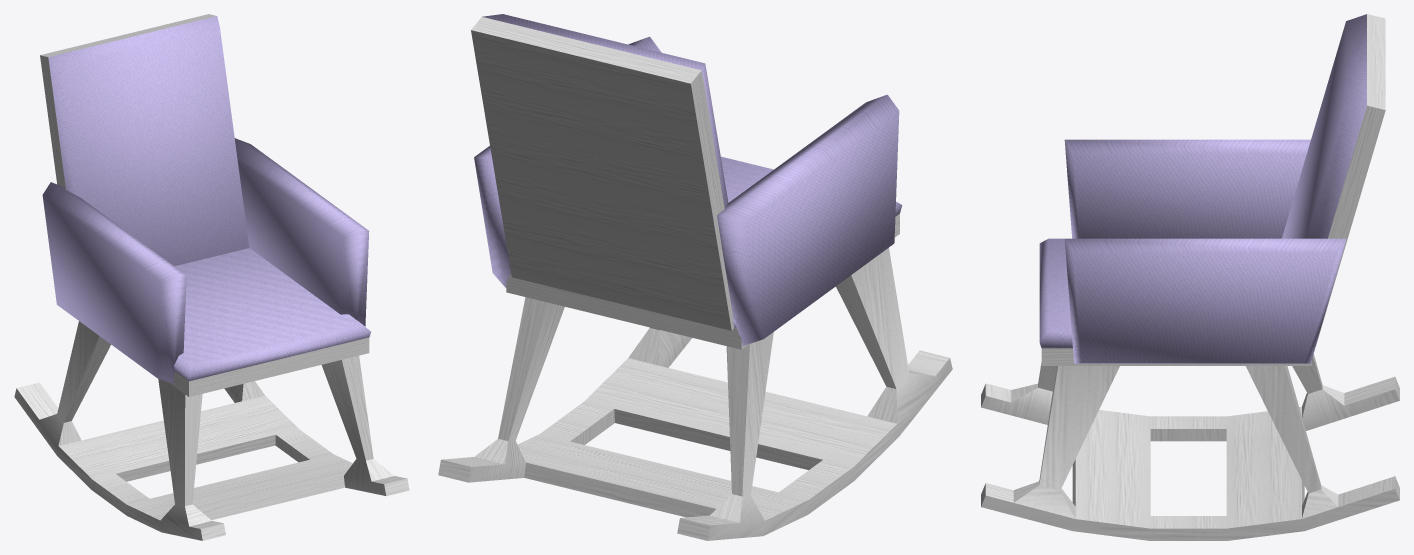
Rendered from Rocker_E.FBX.
The picture shows the model from 3 angles, left to right: view 1: azimuth 30°, elevation 25°; view 2: azimuth 150°, elevation 25°; view 3: azimuth 270°, elevation 25°; orthographic projection. The views are drawn at different scales.
Parts seen in each view (by area): view 1: Rocker; view 2: Rocker; view 3: Rocker.
Boxes of the visible parts, box(x1,y1,x2,y2) form: Rocker: box(14, 14, 409, 540); Rocker: box(438, 14, 952, 540); Rocker: box(981, 14, 1399, 540).
Bounding box in the file's own units: 99.55 × 175 × 156.
